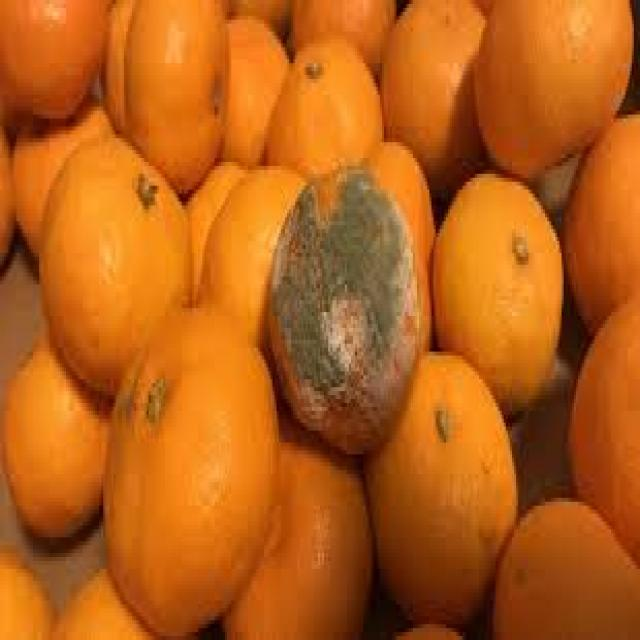organic waste: (101, 300, 279, 632), (266, 162, 415, 450), (37, 126, 190, 395), (363, 348, 512, 612), (218, 407, 372, 636), (432, 166, 560, 411), (473, 0, 632, 170), (2, 332, 109, 537), (491, 490, 638, 636), (202, 162, 308, 356), (262, 28, 382, 198), (564, 292, 638, 565), (380, 0, 485, 190), (122, 4, 223, 197), (559, 107, 638, 324), (12, 95, 112, 257), (359, 130, 434, 344), (0, 0, 103, 122), (217, 12, 289, 166), (52, 565, 165, 636), (184, 154, 239, 292), (289, 0, 392, 71), (0, 545, 56, 636), (101, 0, 136, 130), (223, 0, 293, 51), (386, 612, 467, 636), (0, 106, 12, 268)
